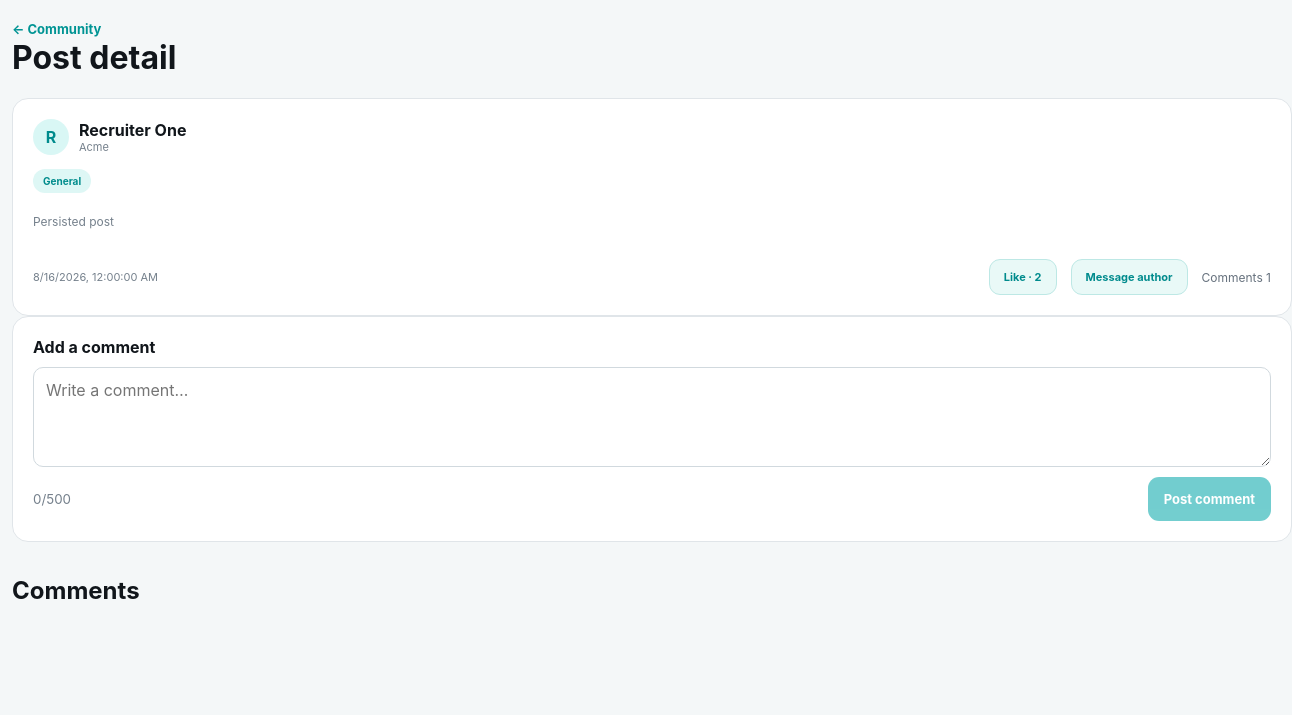
Test: Community pages › uses server Like state, posts comments once and preserves failed comment text
Click the button "Like · 2".
click(1023, 277)  # box [989,259,1056,295]
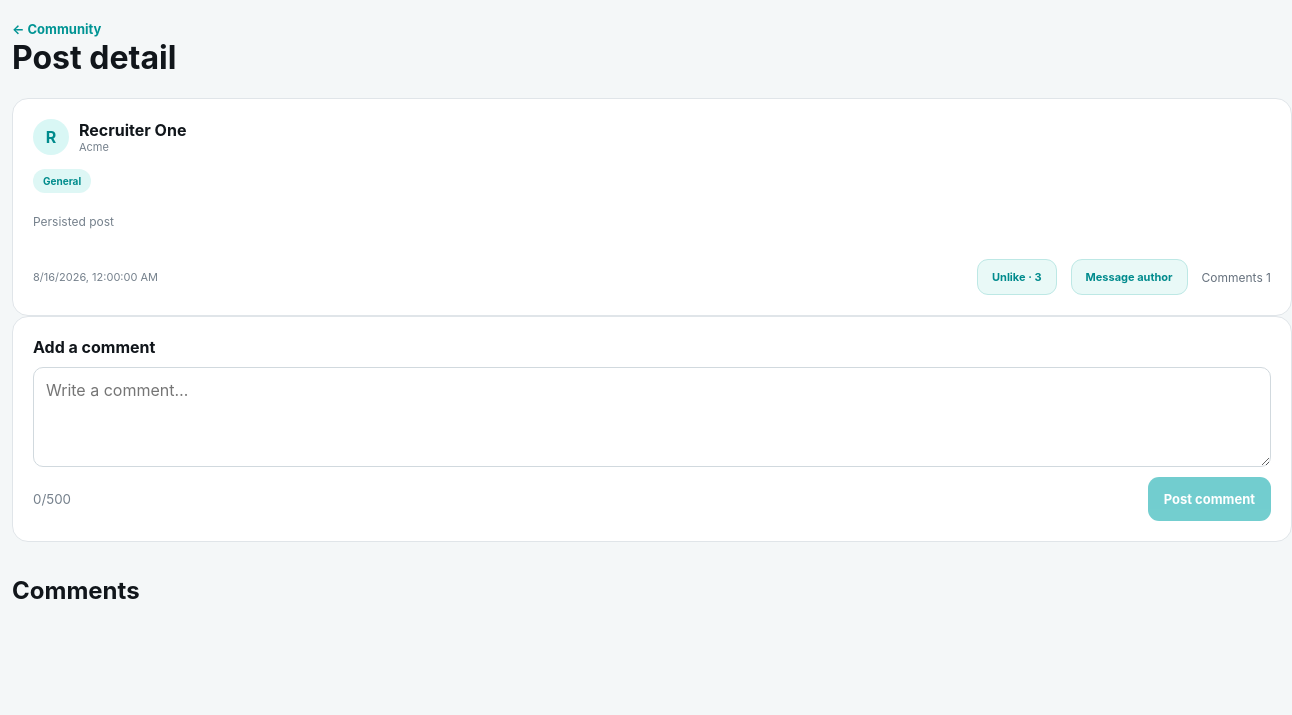
Check: the button "Unlike · 3" is shown, box [977,259,1056,295]
Type "Keep reply" into the text box labelled "Add a comment".
click(652, 417); type("Keep reply")  # box [33,367,1271,467]
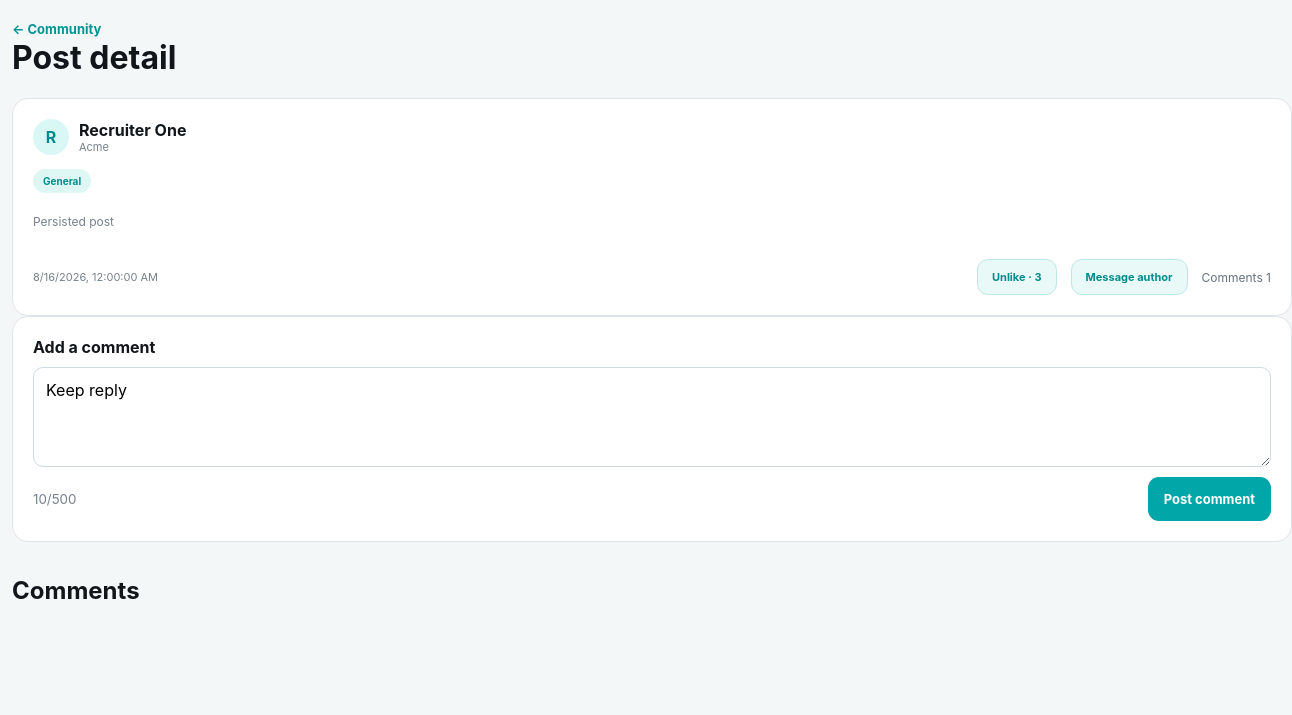
Click the button "Post comment".
click(1209, 499)  # box [1148,477,1271,521]
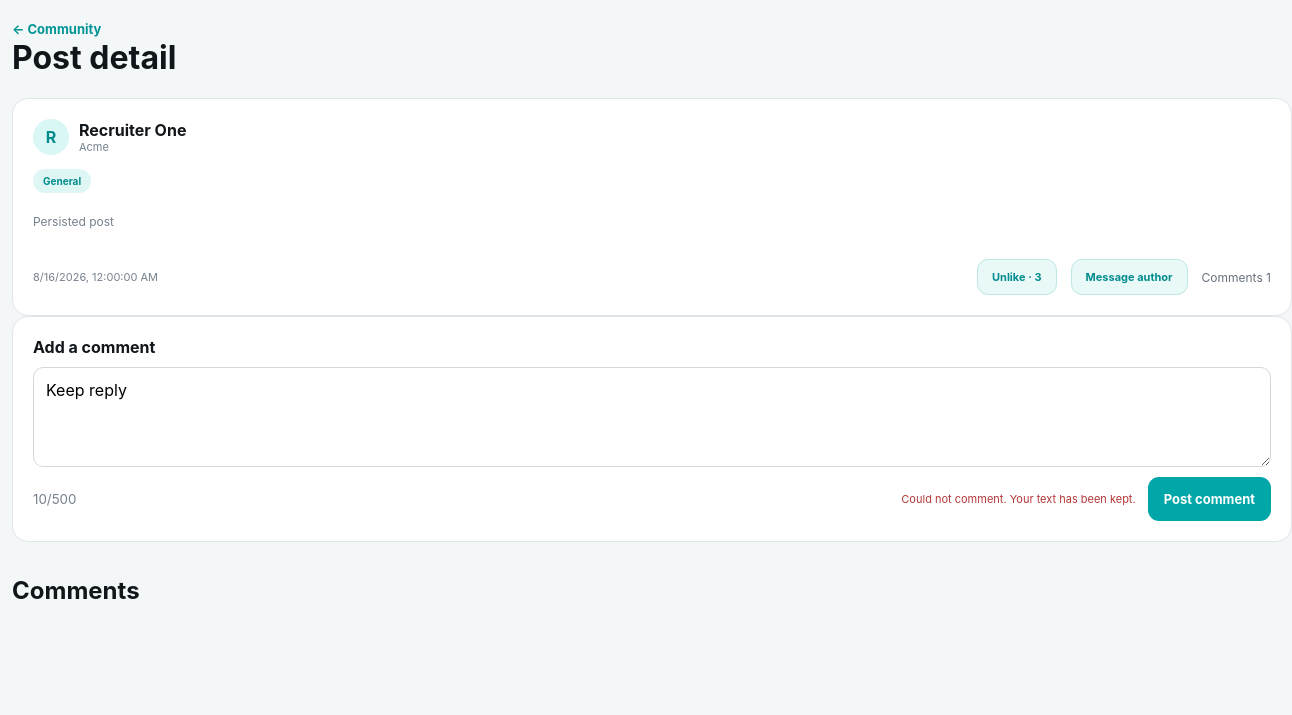
Check: the text "Could not comment. Your text has been kept." is shown, box [901,492,1136,506]
